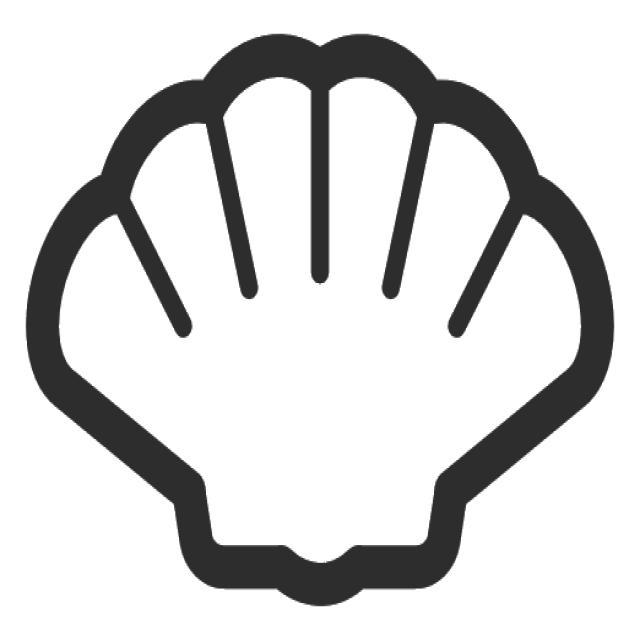shell: (13, 22, 625, 624)
